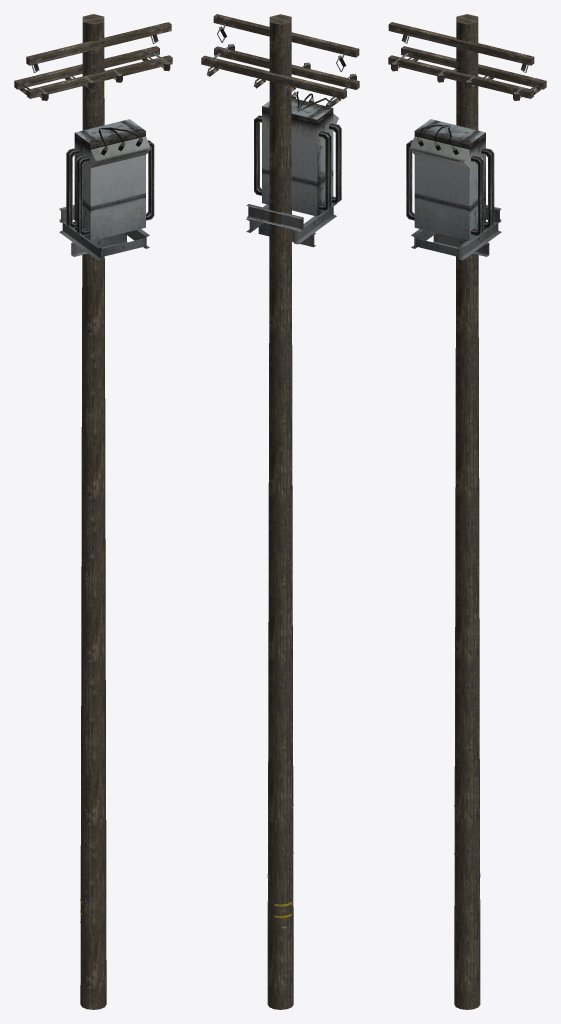
File: prop_telegraph_02a.obj
3 renders of one model, left to right at view 1: azimuth 30°, elevation 25°; view 2: azimuth 150°, elevation 25°; view 3: azimuth 330°, elevation 25°, orthographic.
Bounding box in the file's own units: 2.13 × 14.06 × 1.13.
